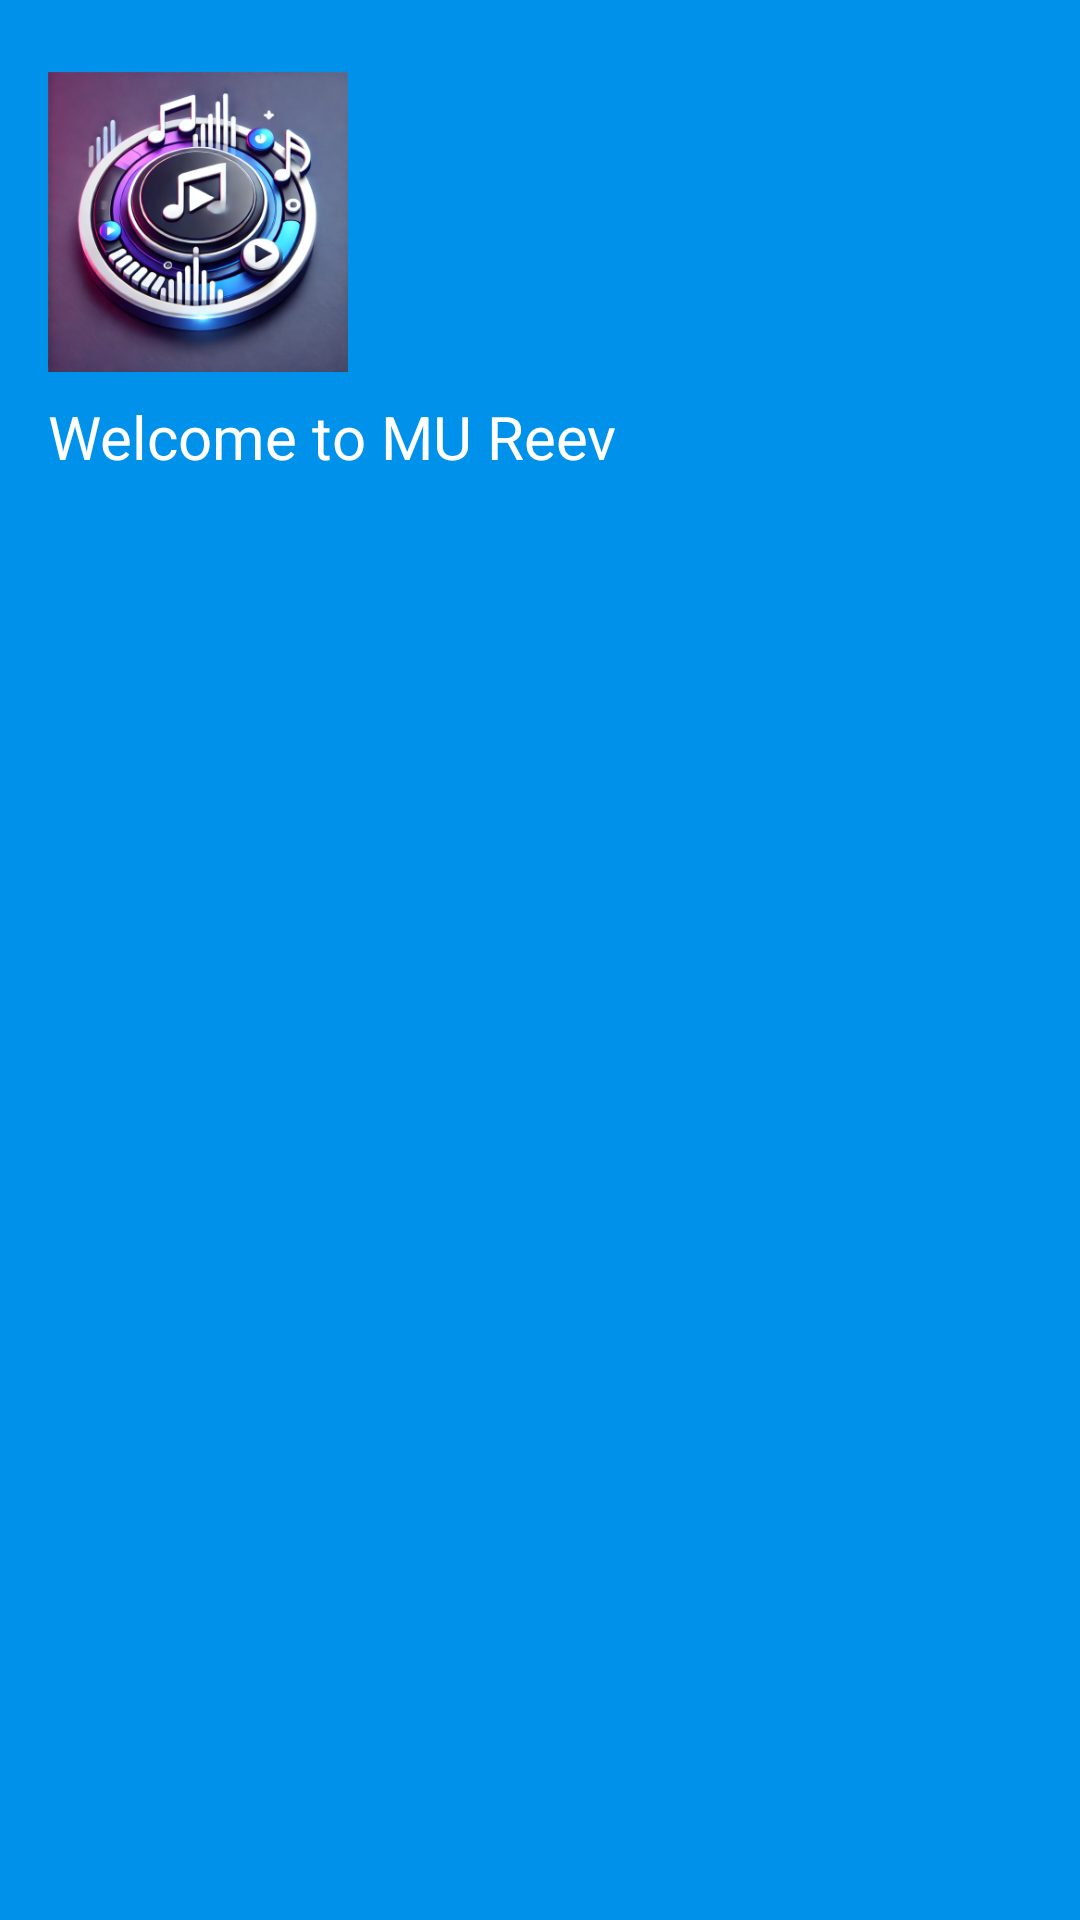

Point at icon controls on the screen. Image size 1080*1920, points as (x=x, y=y).
music player: (x=198, y=222)
